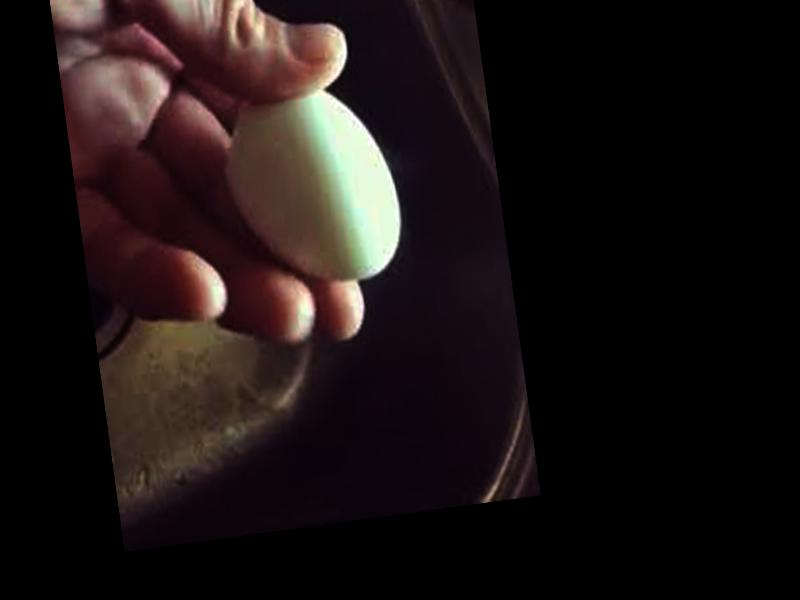Eggs: (219, 80, 408, 296)
